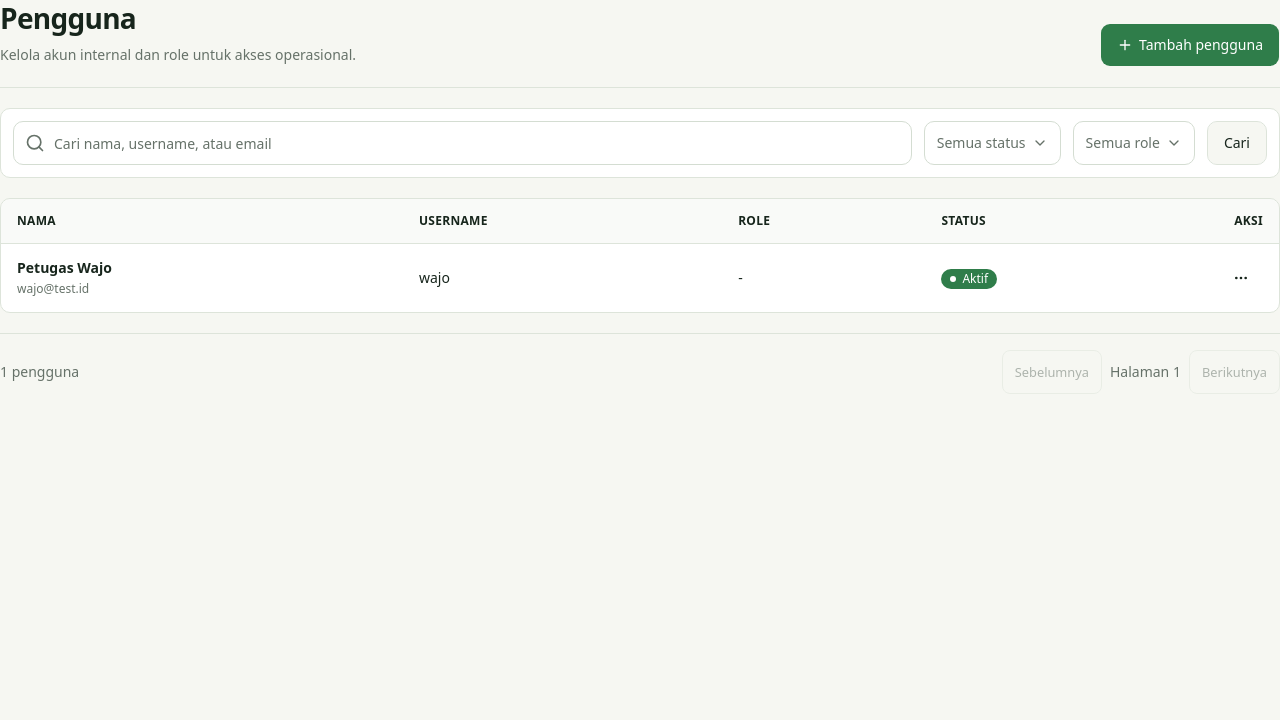
Test case: confirms deactivation and keeps dialog footers inside the user surface
The image size is (1280, 720).
Click the button named "Aksi Petugas Wajo" at (1241,278), box [1219,256,1263,300]
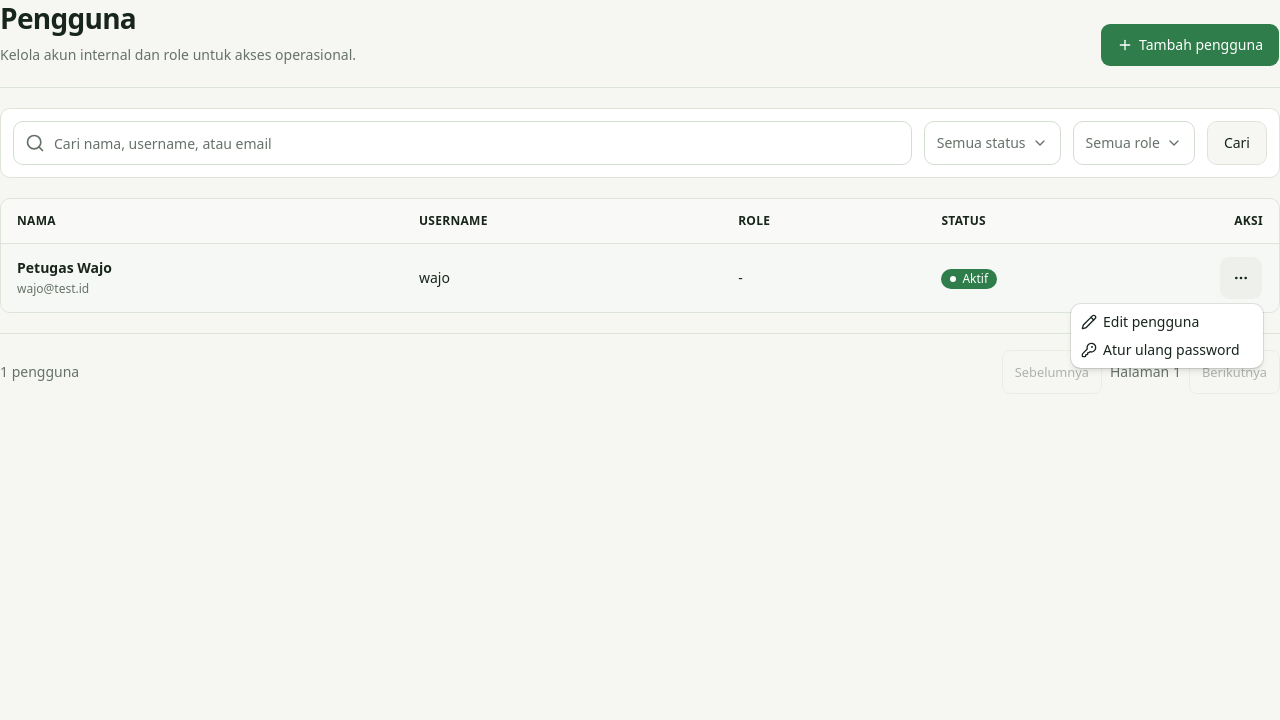
Click the menu item "Edit pengguna" at (1140,322), box [1081,312,1199,331]
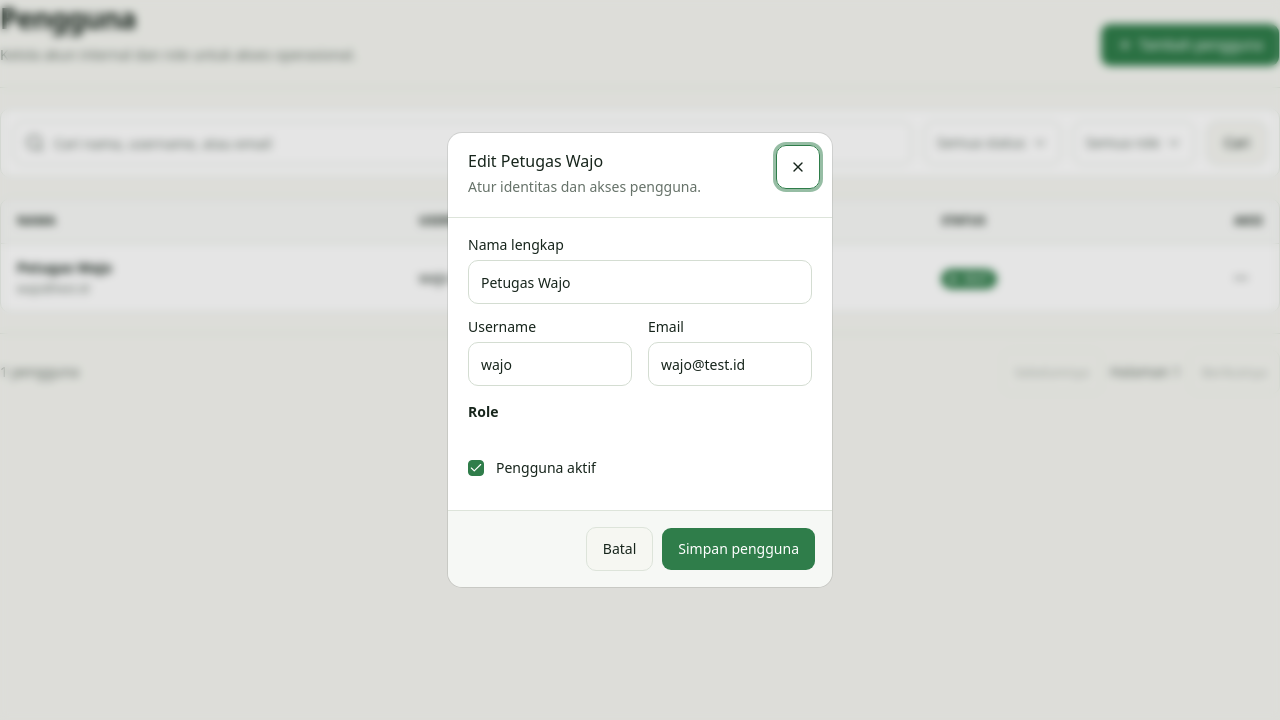
Click the checkbox named "Pengguna aktif" at (476,468), box [468,460,484,476]
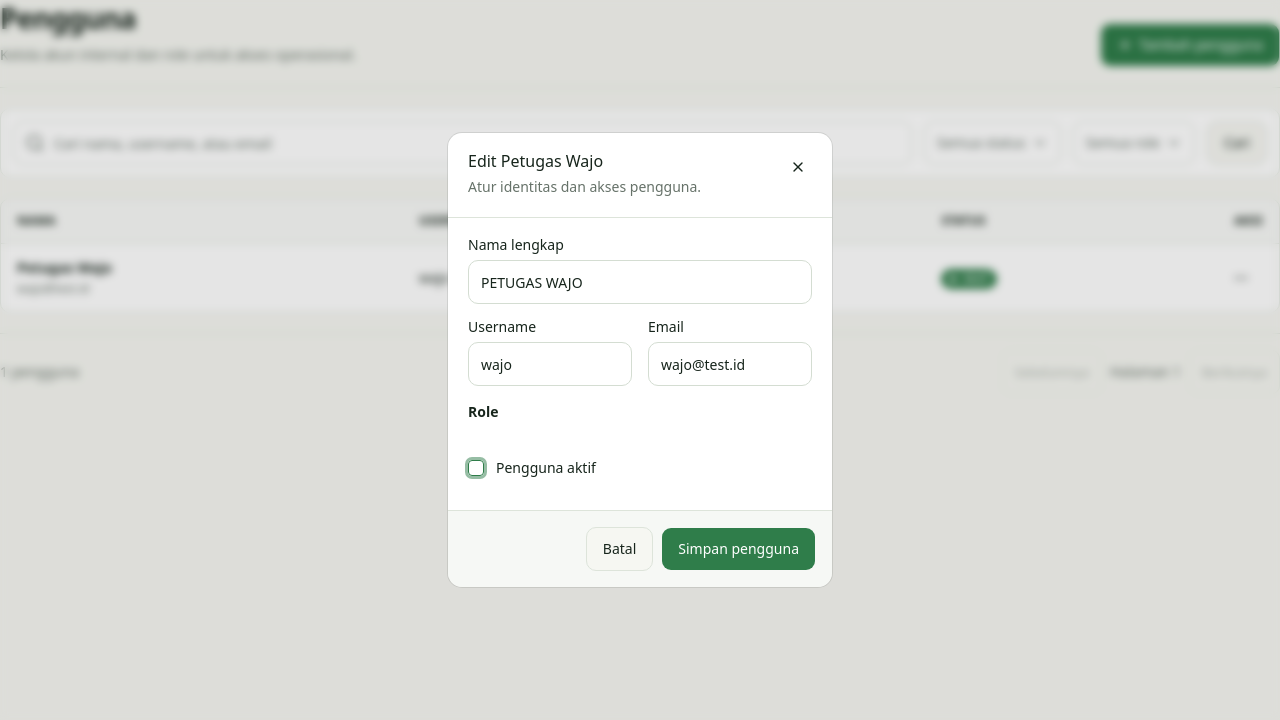
Click the button "Simpan pengguna" at (739,549), box [661,527,816,571]
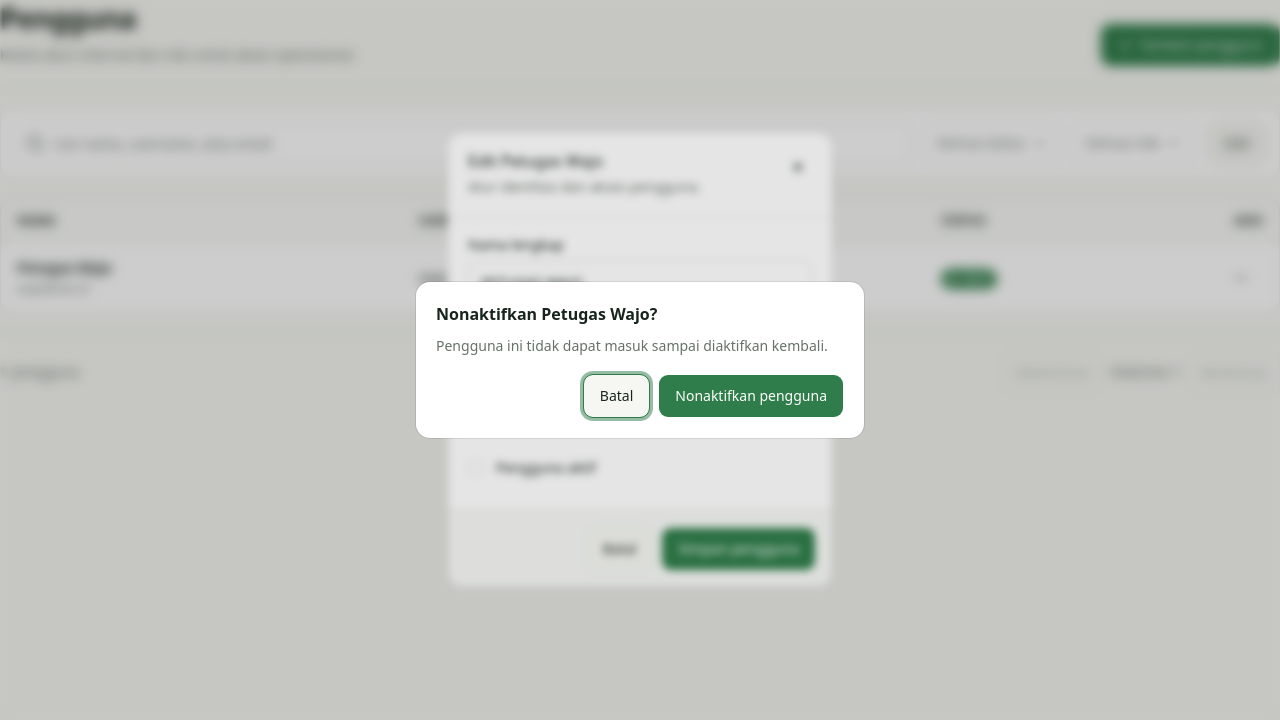
Expected: the dialog "Nonaktifkan Petugas Wajo?" is shown, [416,282,864,438]
